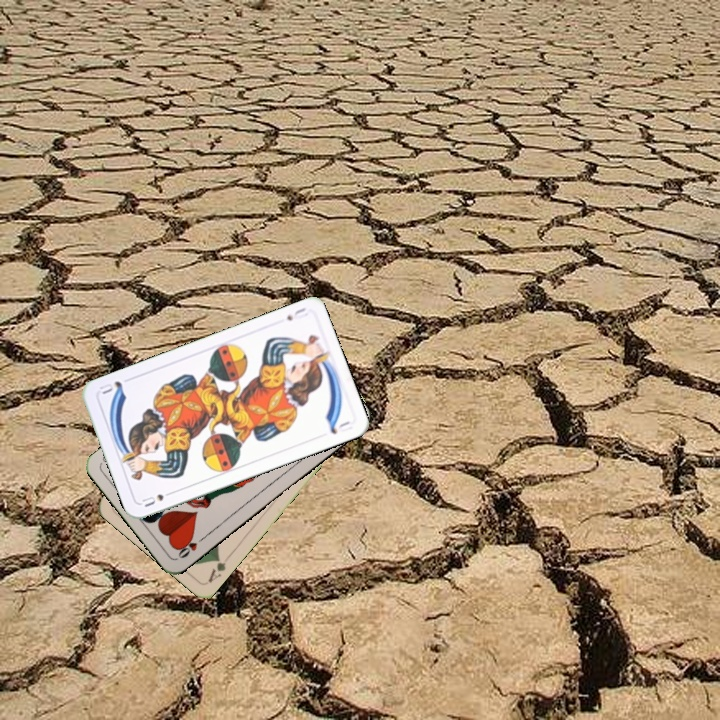GA: (204, 553, 229, 585)
HO: (173, 532, 208, 561)
SU: (138, 487, 177, 510), (283, 303, 311, 323)
